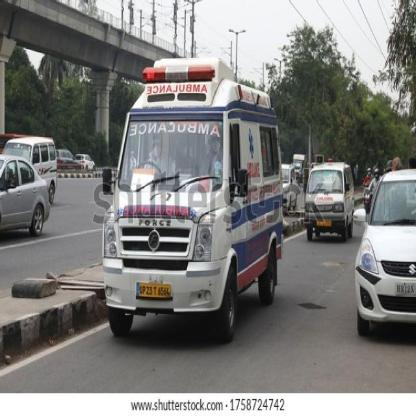priority: (101, 56, 280, 334)
